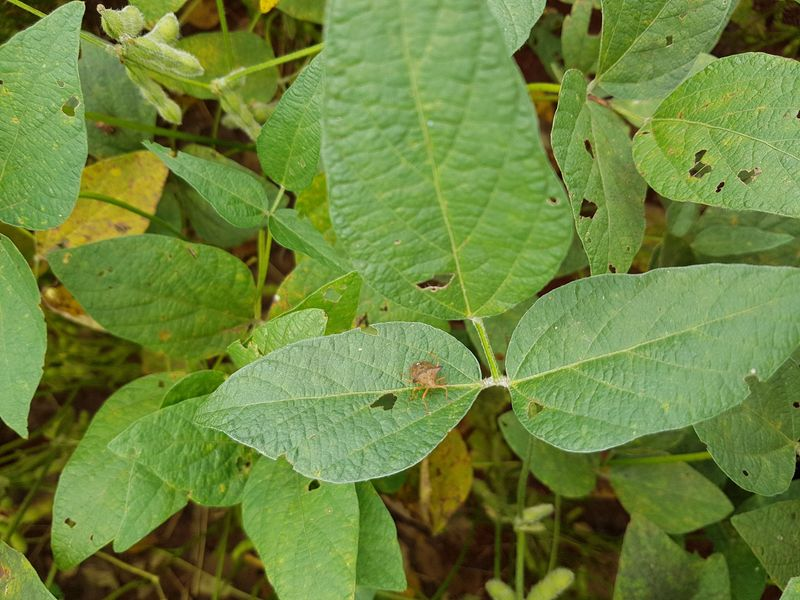Euschistus_heros_adulto: (386, 343, 468, 419)
